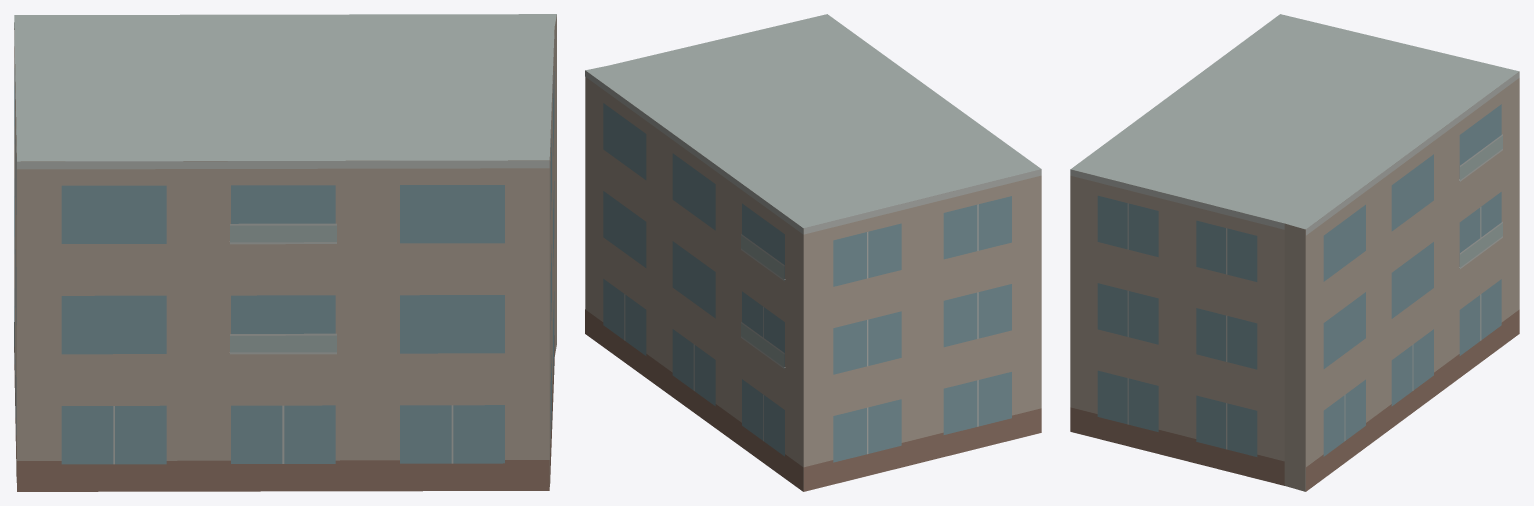
Rendered from survey-upis-32826876.glb.
The picture shows the model from 3 angles, left to right: view 1: azimuth 30°, elevation 25°; view 2: azimuth 150°, elevation 25°; view 3: azimuth 270°, elevation 25°; orthographic projection. The views are drawn at different scales.
Parts seen in each view (by area): view 1: survey-upis-32826876.tmp; view 2: survey-upis-32826876.tmp; view 3: survey-upis-32826876.tmp.
Part boxes in pixels (<box>): survey-upis-32826876.tmp: <box>14,14,556,491</box>; survey-upis-32826876.tmp: <box>585,14,1041,491</box>; survey-upis-32826876.tmp: <box>1070,14,1519,491</box>.
Bounding box in the file's own units: 17.8 × 10.1 × 15.67.
